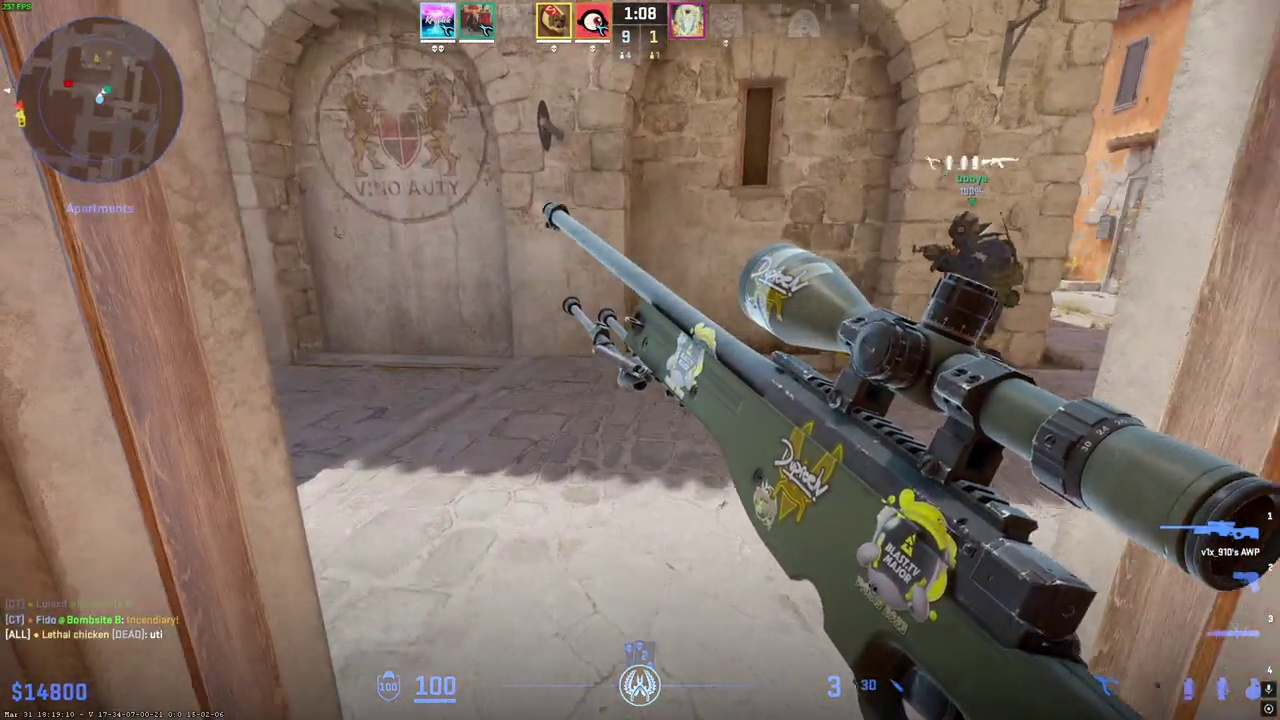CT: (926, 211, 1024, 338)
